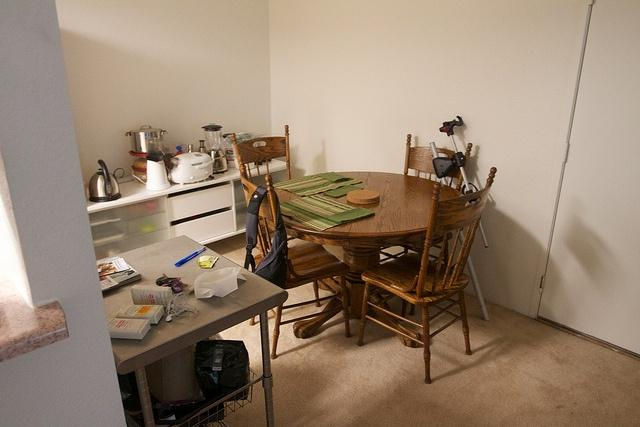Kursi: (355, 166, 495, 385), (240, 172, 352, 361)
Meja: (93, 232, 288, 402), (256, 170, 468, 262)
